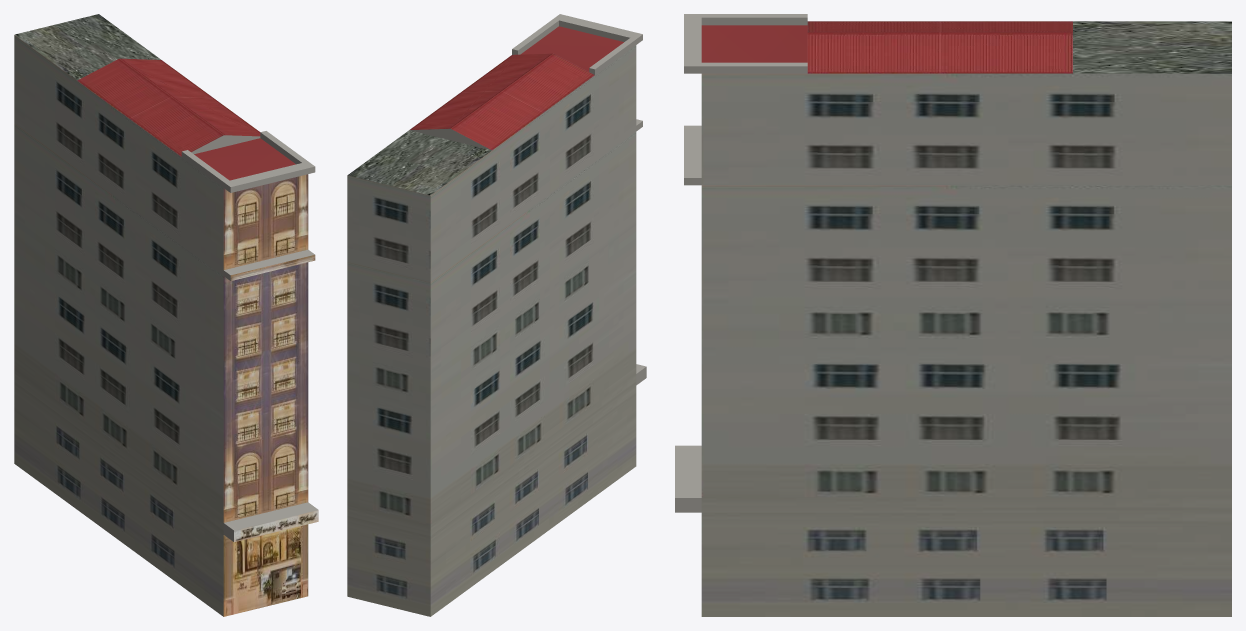
3 renders of one model, left to right at view 1: azimuth 30°, elevation 25°; view 2: azimuth 150°, elevation 25°; view 3: azimuth 270°, elevation 25°, orthographic. The views are drawn at different scales.
Visible parts, largest first — view 1: HN060___Canary_Hanoi_Hotel; view 2: HN060___Canary_Hanoi_Hotel; view 3: HN060___Canary_Hanoi_Hotel.
Boxes of the visible parts, bbox=[...] form: HN060___Canary_Hanoi_Hotel: bbox=[14, 14, 318, 616]; HN060___Canary_Hanoi_Hotel: bbox=[347, 14, 646, 616]; HN060___Canary_Hanoi_Hotel: bbox=[675, 14, 1231, 616].
Bounding box in the file's own units: 7 × 34.83 × 31.5.
1 material, 1 textured.
